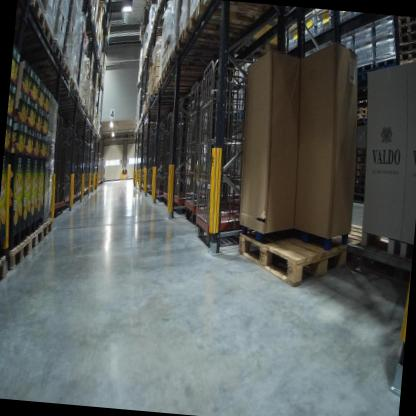pallet: (235, 217, 352, 292), (183, 4, 262, 47), (173, 30, 246, 64), (165, 50, 245, 80), (15, 0, 56, 53), (12, 34, 67, 71), (195, 0, 277, 19), (5, 230, 34, 274), (159, 64, 211, 87), (33, 62, 72, 87), (157, 76, 211, 94), (147, 94, 192, 111), (41, 85, 81, 103), (152, 86, 193, 103), (43, 76, 77, 96), (0, 253, 12, 299), (28, 222, 44, 251), (56, 102, 87, 116), (39, 219, 54, 245), (51, 96, 83, 108), (79, 10, 95, 27), (152, 14, 168, 29), (157, 0, 173, 14), (76, 0, 94, 10), (17, 0, 32, 9), (98, 0, 108, 4)
pallet_truck: (119, 162, 130, 183)
